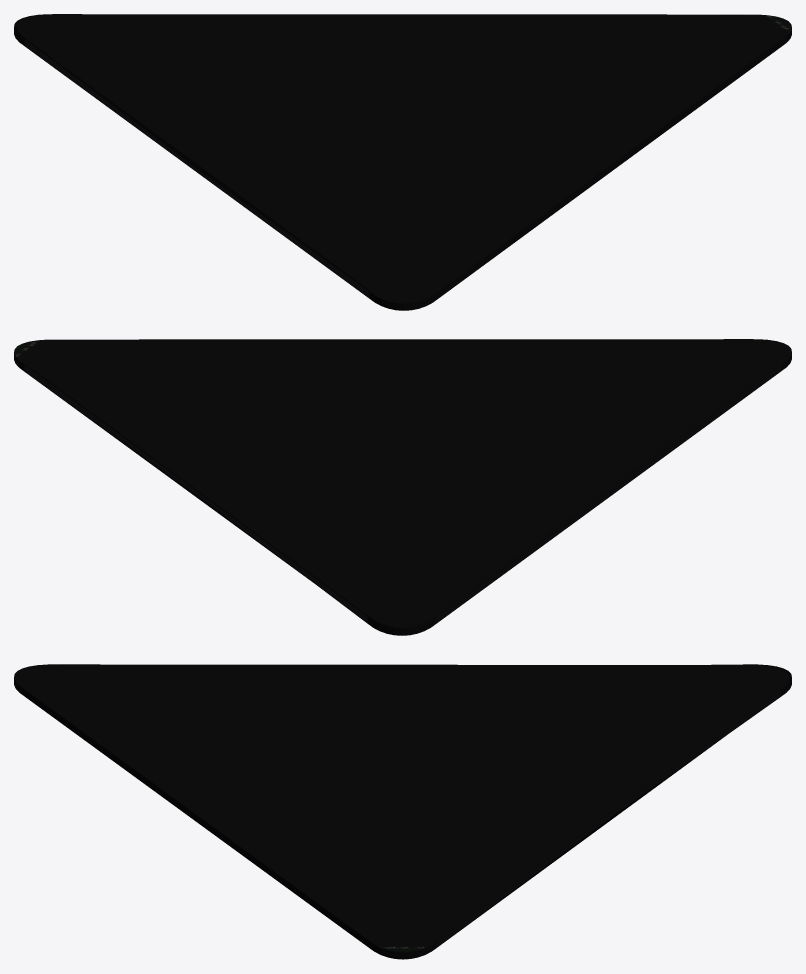
3 renders of one model, top to bottom at view 1: azimuth 30°, elevation 25°; view 2: azimuth 150°, elevation 25°; view 3: azimuth 270°, elevation 25°, orthographic.
Visible parts, largest first — view 1: Cube.003; view 2: Cube.003; view 3: Cube.003.
Boxes of the visible parts, x1=… form: Cube.003: x1=14, y1=14, x2=791, y2=310; Cube.003: x1=14, y1=339, x2=791, y2=635; Cube.003: x1=14, y1=664, x2=791, y2=959.
Size of the model in its own units: 0.0743 by 0.000864 by 0.0849.
Materials: 1 (1 with a texture image).
